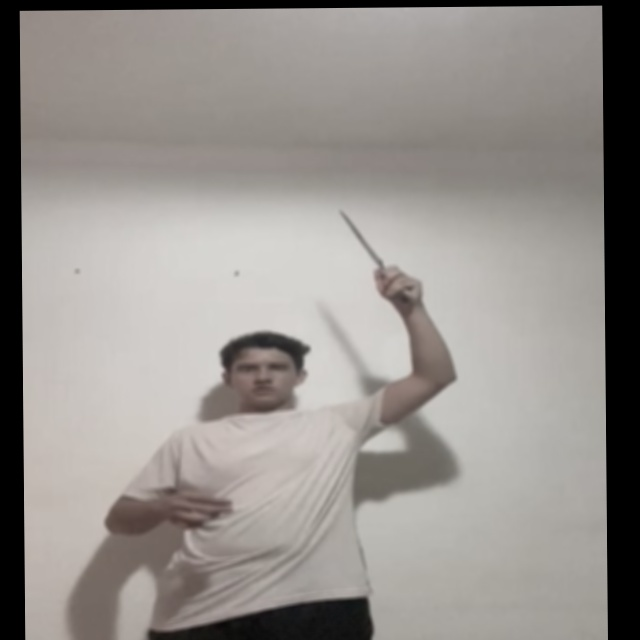Sharp-Object: (339, 210, 381, 263)
